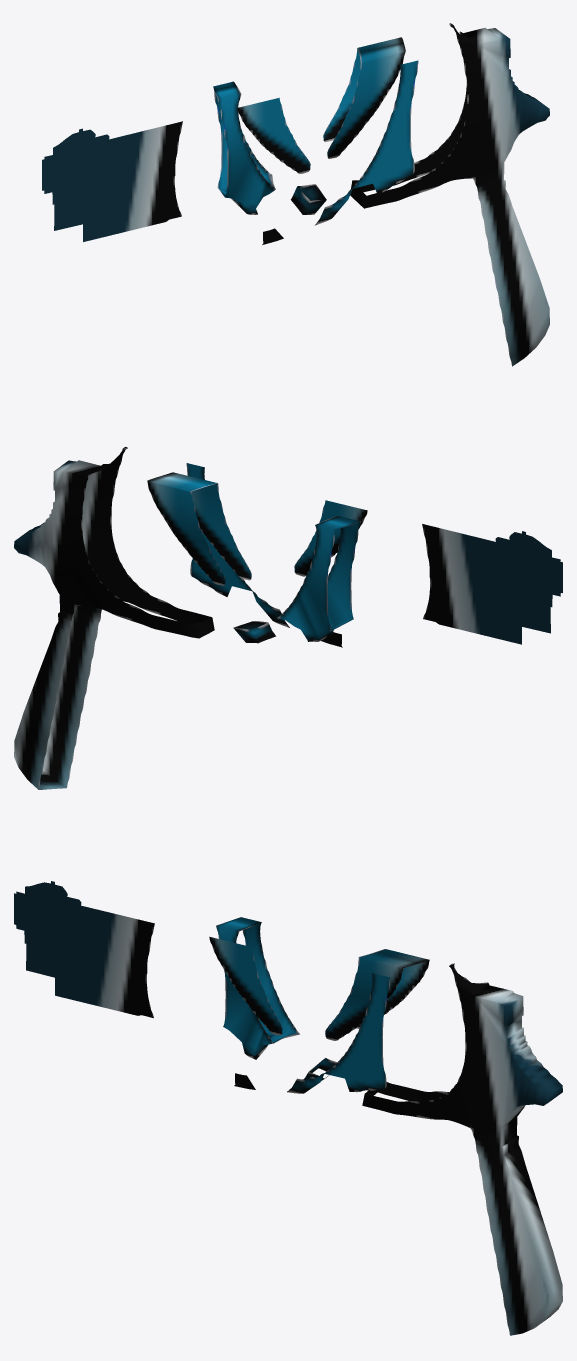
File: Gun.fbx
The picture shows the model from 3 angles, top to bottom: view 1: azimuth 30°, elevation 25°; view 2: azimuth 150°, elevation 25°; view 3: azimuth 330°, elevation 25°; orthographic projection.
Visible parts, largest first — view 1: Gun, Gun.1; view 2: Gun, Gun.1; view 3: Gun, Gun.1.
Boxes of the visible parts, bbox=[...] form: Gun: bbox=[213, 23, 549, 366]; Gun.1: bbox=[42, 60, 418, 244]; Gun: bbox=[14, 447, 360, 789]; Gun.1: bbox=[186, 463, 562, 647]; Gun: bbox=[216, 917, 562, 1335]; Gun.1: bbox=[14, 881, 390, 1093].
Size of the model in its own units: 800 by 537 by 74.54.
